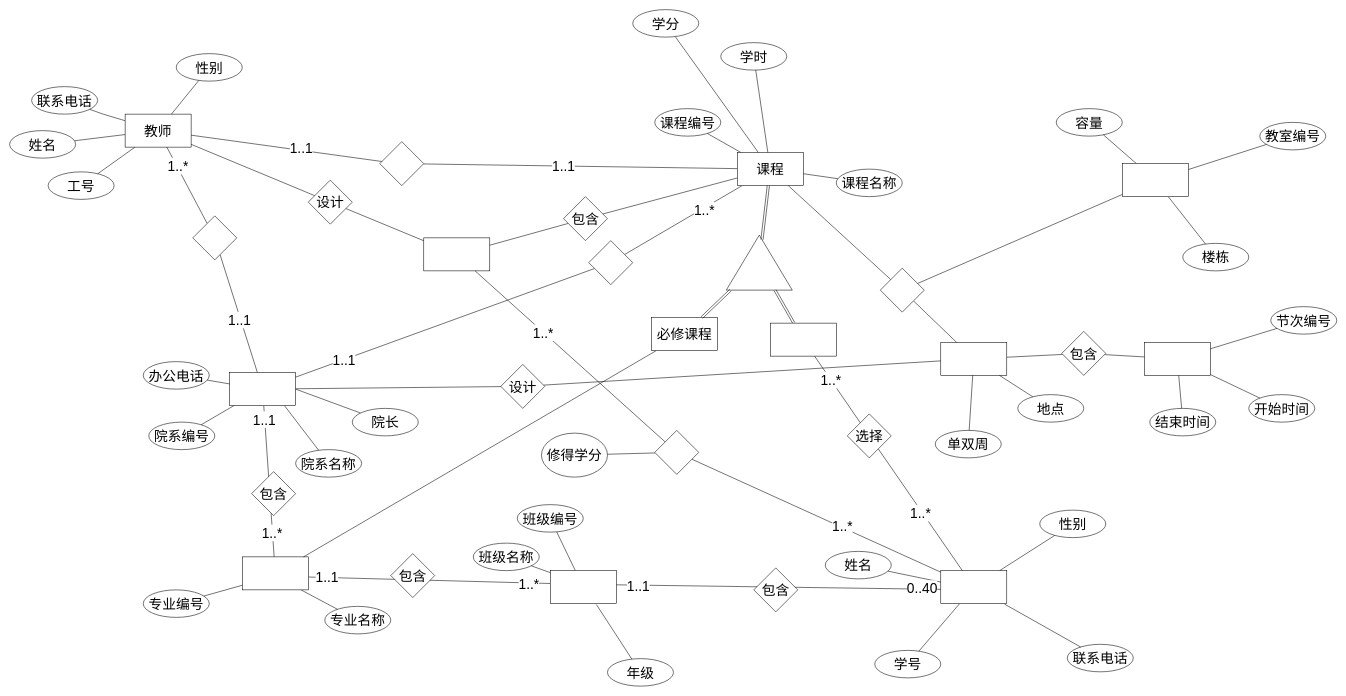
Image size: 1346x696. Some labels were removed from this diagram. Each missing label, with the centre of its shape:
"专业" goes at (x=275, y=573).
"参加" goes at (x=676, y=452).
"参考" goes at (x=902, y=290).
"学生" goes at (x=973, y=587).
"属于" goes at (x=214, y=237).
"开设" goes at (x=610, y=262).
"排课安排" goes at (x=973, y=358).
"教室" goes at (x=1155, y=180).
"班级" goes at (x=583, y=587).
"考试" goes at (x=456, y=254).
"讲授" goes at (x=401, y=163).
"课程性质" goes at (x=759, y=262).
"课程节次时间段" goes at (x=1177, y=358).
"选修课程" goes at (x=803, y=339).
"院系" goes at (x=262, y=389).
